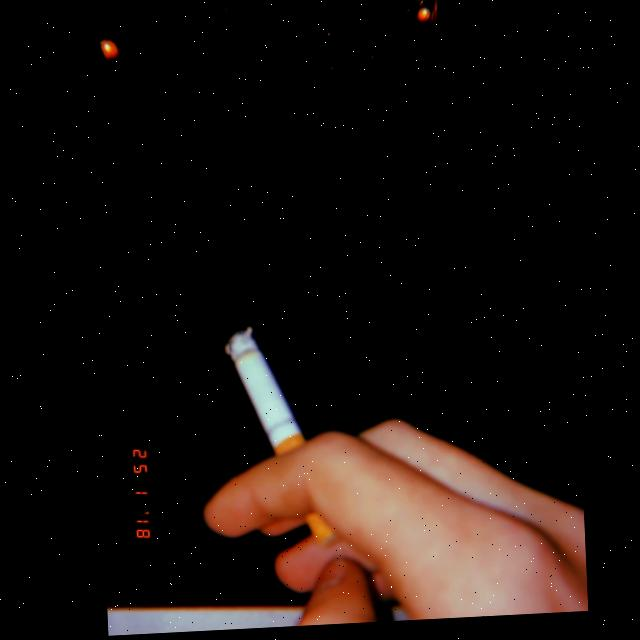cigarette: (220, 327, 337, 554)
